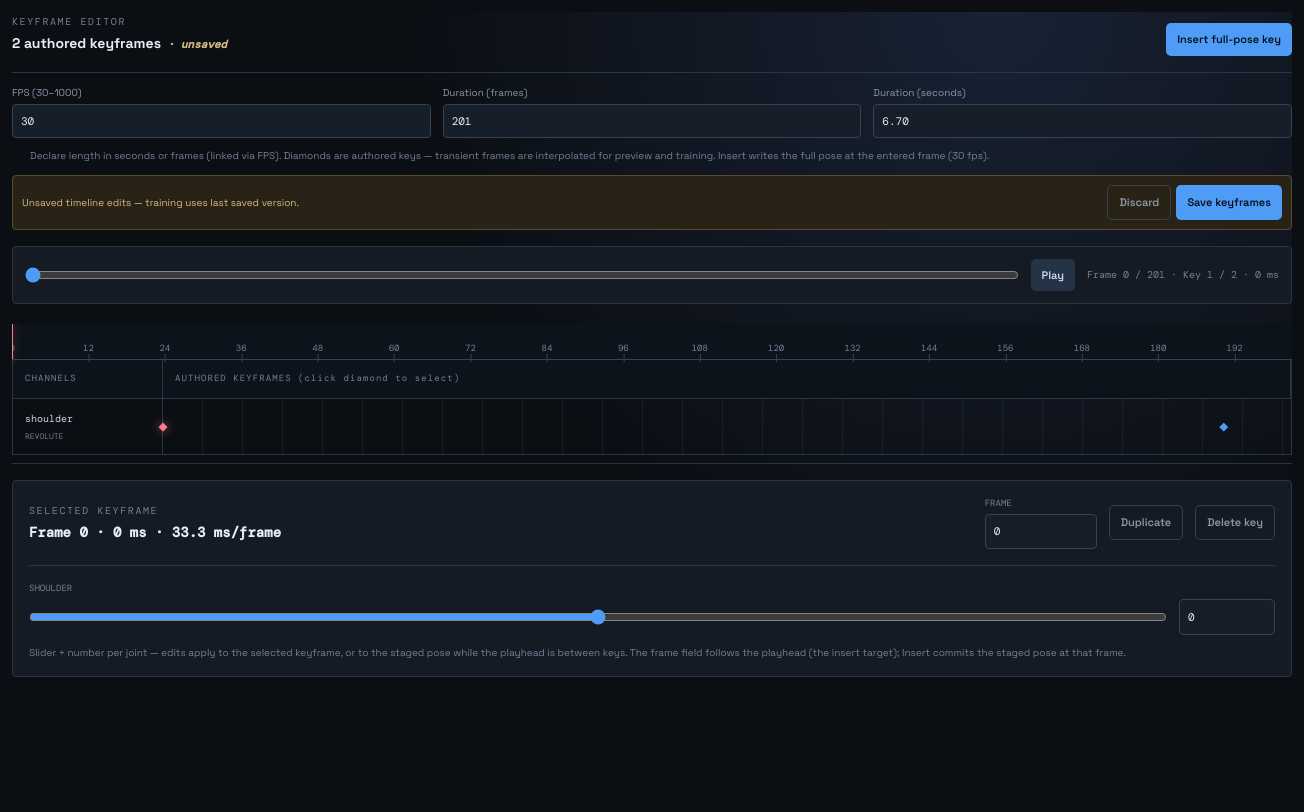
TimelinePanel selected keypose flow › stages pose edits at a typed target frame without touching the selected keyframe
Check: the number field named "shoulder at selected keyframe" holds "0", box [1179,599,1275,635]
# Type a new target frame, then author the pose for it.
Step 1. Replace the text in the number field named "Insert frame" with "45" → [1041, 531], box [985,514,1097,548]
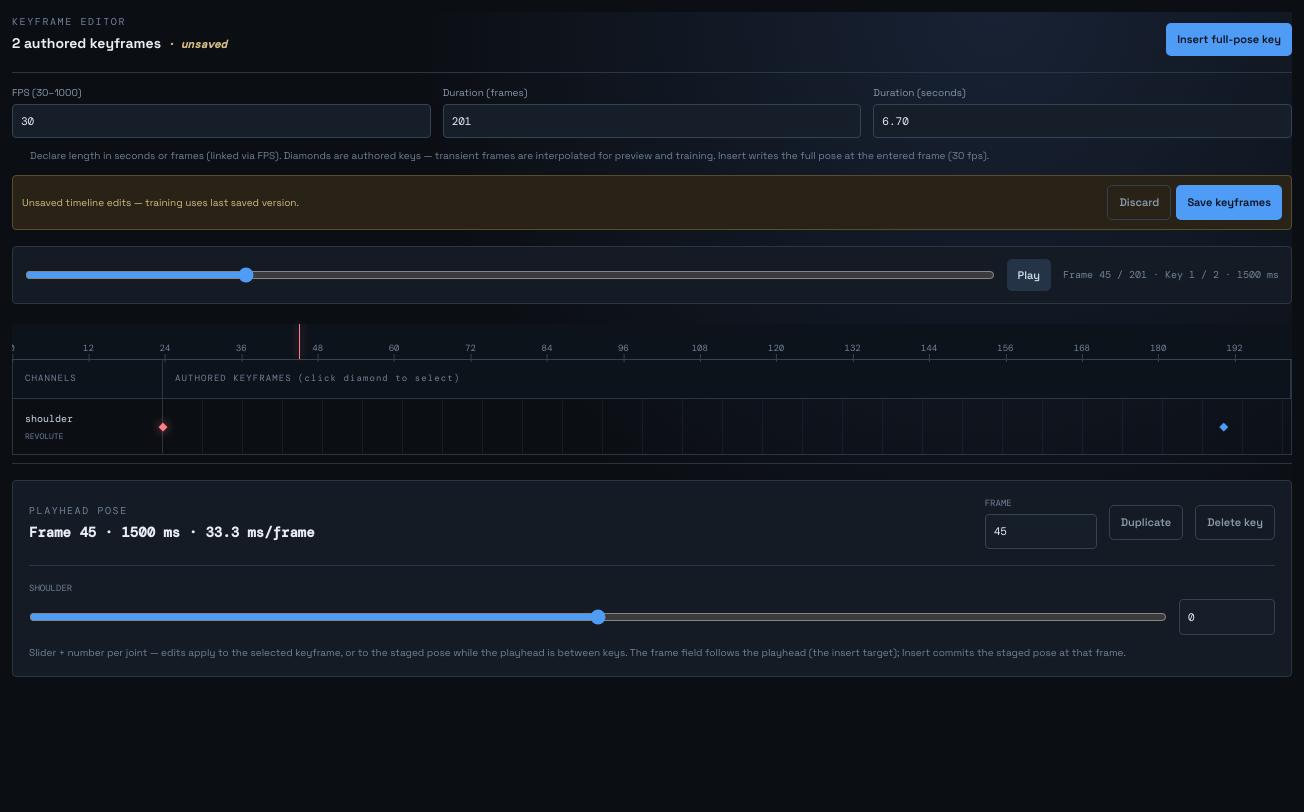
Step 2. Replace the text in the number field named "shoulder at selected keyframe" with "0.5" → [1227, 617], box [1179,599,1275,635]
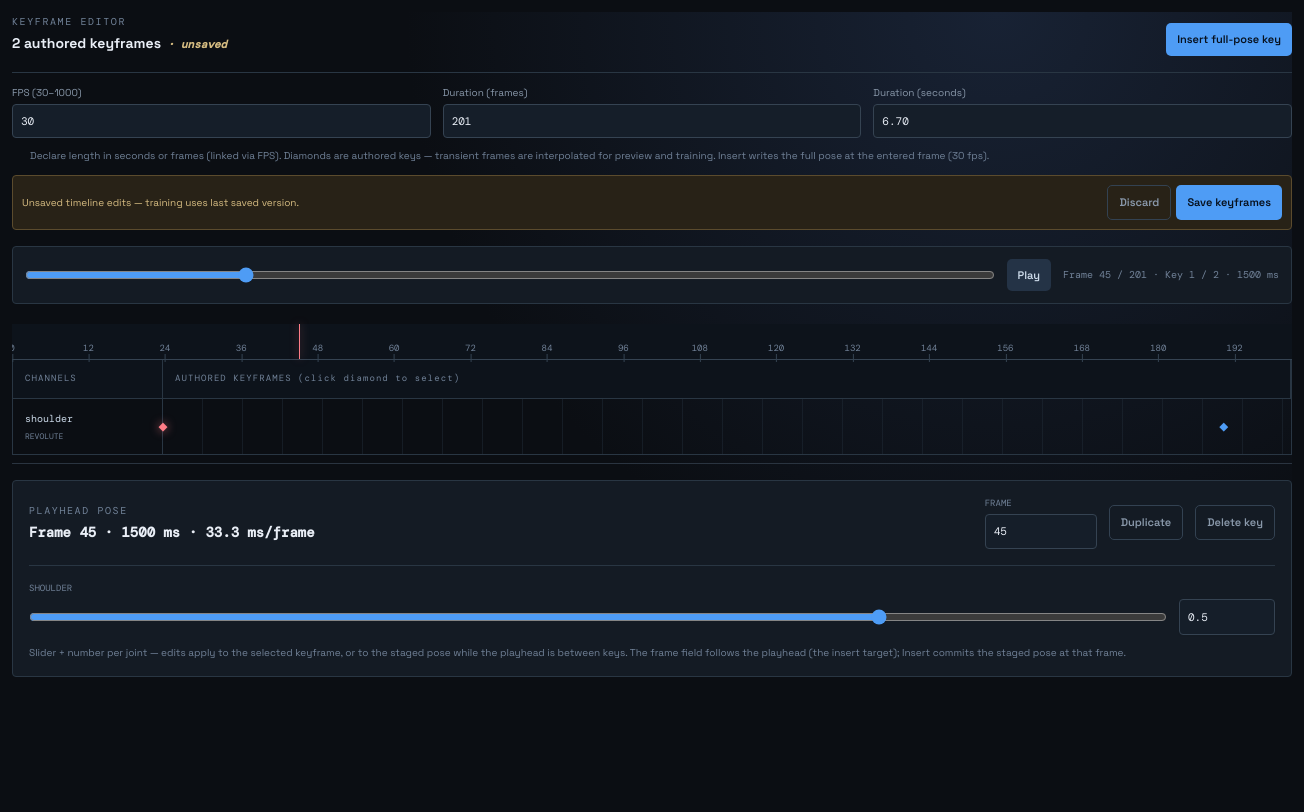
# Insert commits the staged pose at frame 45.
Step 3. Click the button "Insert full-pose key" → [1229, 39], box [1166,23,1292,56]
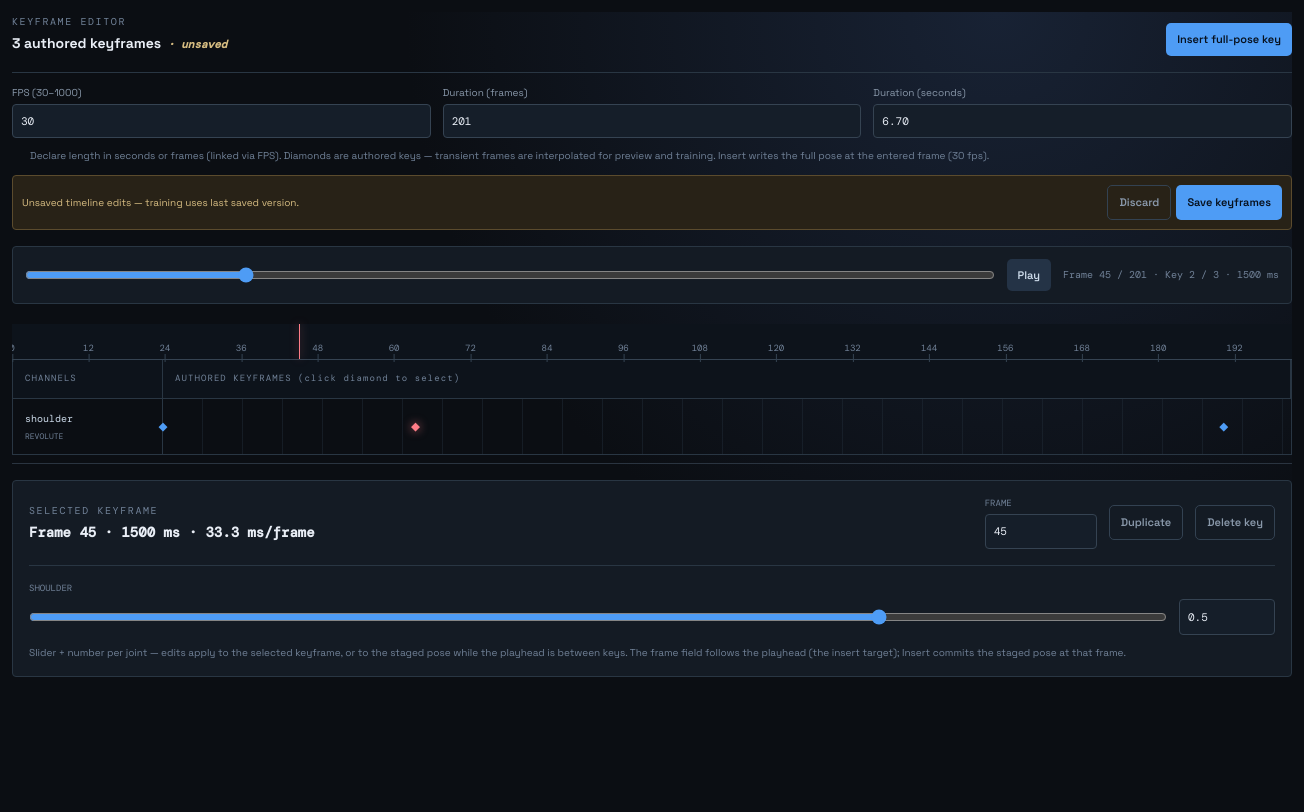
Check: the text "Frame 45 / 201 · Key 2 / 3 · 1500 ms" is shown, box [1063,267,1279,282]
Check: the button named "Keyframe 2 at frame 45 for shoulder" is shown, box [407,414,424,438]
# Frame 0 keeps its original pose — edits never leaked into it.
Step 4. Click the button named "Keyframe 1 at frame 0 for shoulder" → [163, 426], box [154,414,172,438]
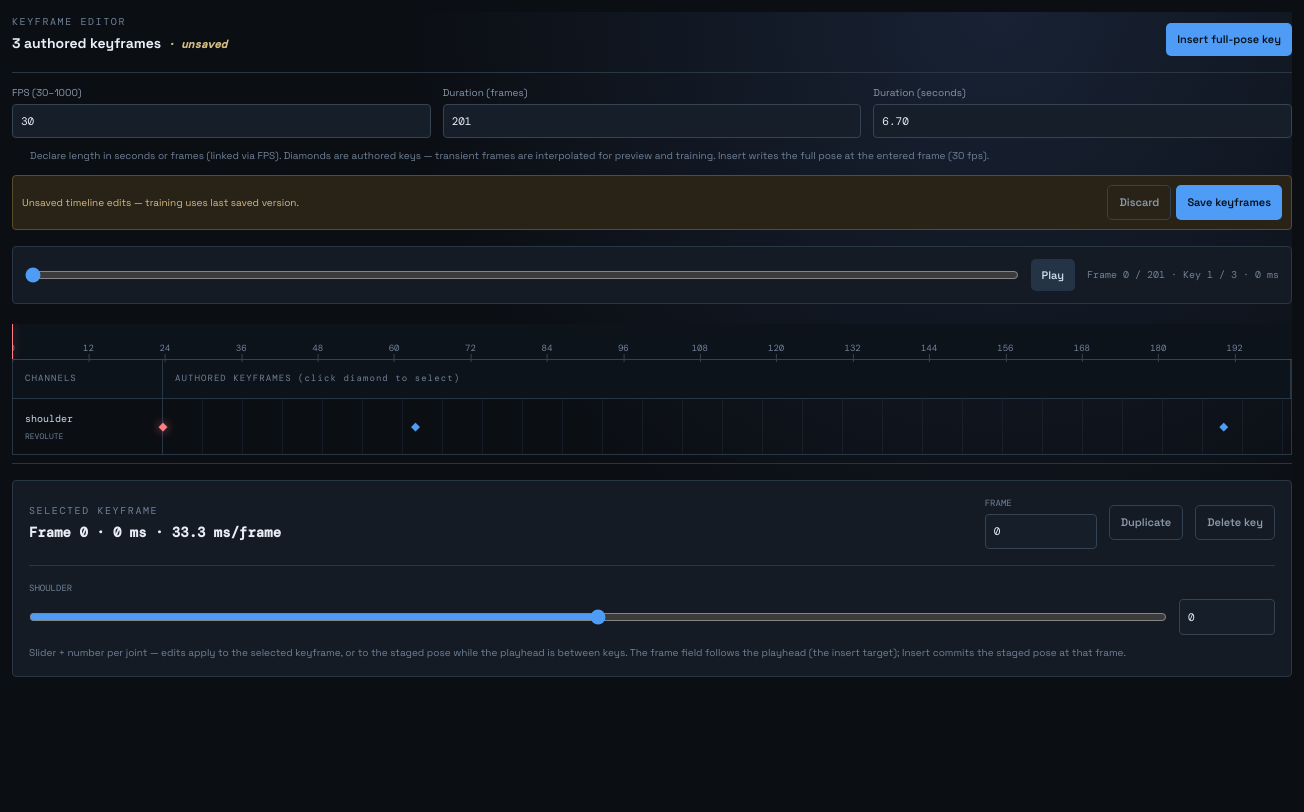
Check: the number field named "shoulder at selected keyframe" holds "0", box [1179,599,1275,635]
